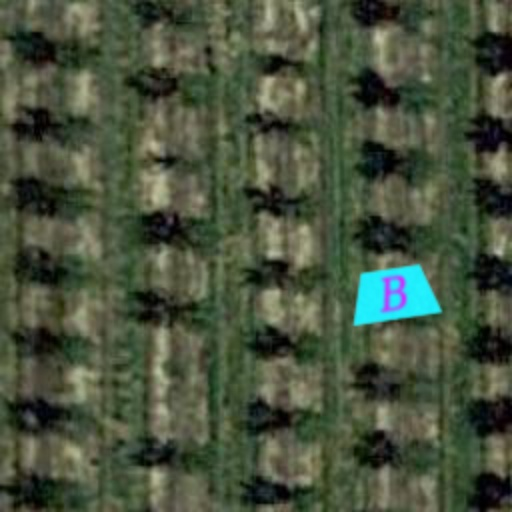trapezoid: (342, 242, 446, 346)
